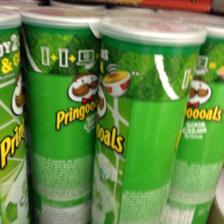chips: (93, 15, 206, 224), (21, 7, 103, 224)
